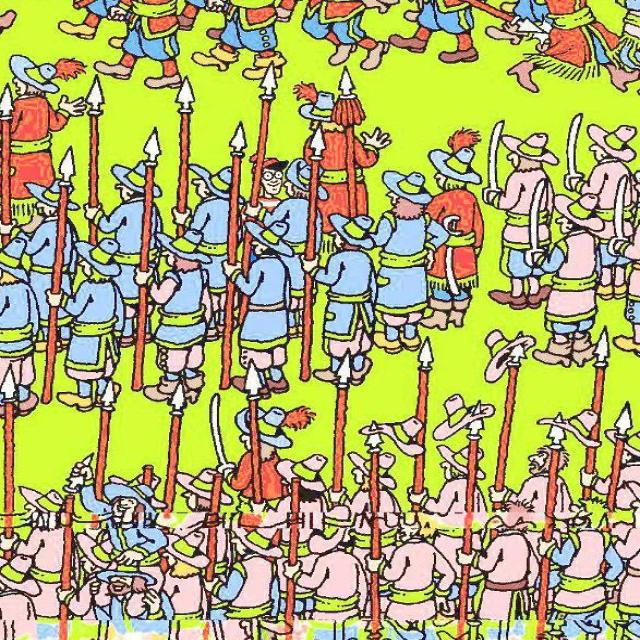waldo: (249, 154, 289, 196)
